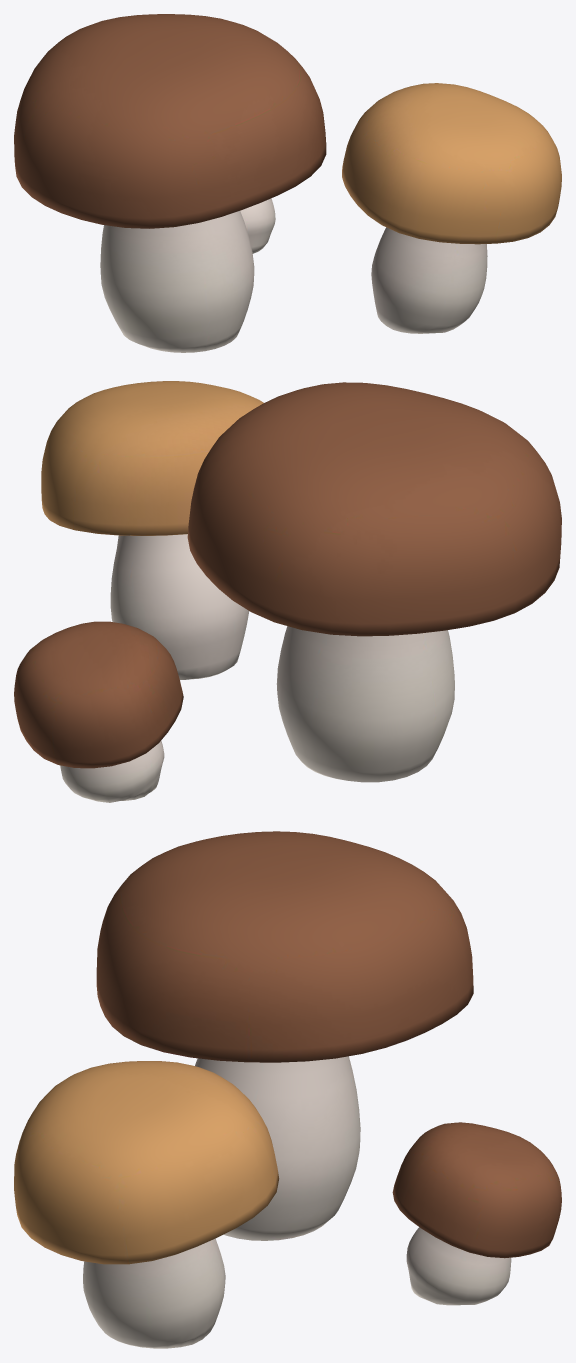
File: forest-mushroom.glb
3 views of the same model, one above another, from view 1: azimuth 30°, elevation 25°; view 2: azimuth 150°, elevation 25°; view 3: azimuth 270°, elevation 25° (orthographic). The views are drawn at different scales.
Parts seen in each view (by area): view 1: forest-mushroom_body; view 2: forest-mushroom_body; view 3: forest-mushroom_body.
Part boxes in pixels (box(x1,y1,x2,y2)): forest-mushroom_body: box(14, 14, 561, 352); forest-mushroom_body: box(14, 381, 561, 802); forest-mushroom_body: box(14, 831, 561, 1348).
Size of the model in its own units: 0.252 by 0.1489 by 0.2157.
Materials: 1 (1 with a texture image).
